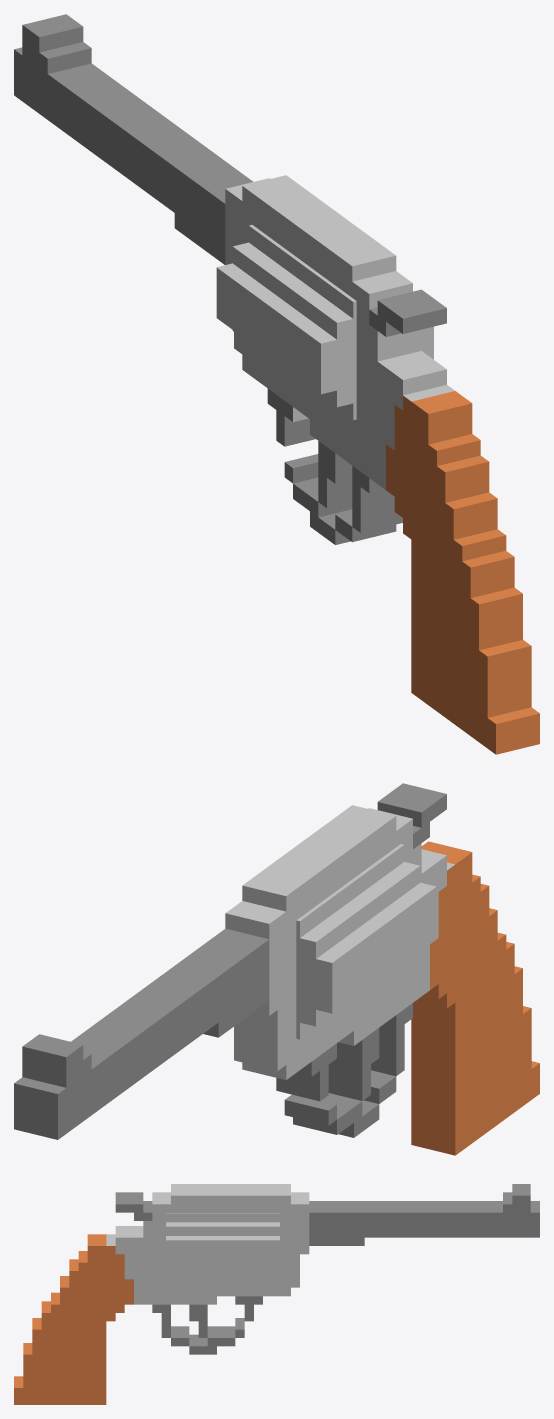
The model's file is revolver.fbx.
3 renders of one model, top to bottom at view 1: azimuth 30°, elevation 25°; view 2: azimuth 150°, elevation 25°; view 3: azimuth 270°, elevation 25°, orthographic. The views are drawn at different scales.
Parts seen in each view (by area): view 1: BASEGUN, BARREL; view 2: BASEGUN, BARREL; view 3: BASEGUN, BARREL.
Part boxes in pixels (x1=…): BASEGUN: x1=14, y1=14, x2=539, y2=754; BARREL: x1=216, y1=224, x2=433, y2=420; BASEGUN: x1=14, y1=783, x2=539, y2=1155; BARREL: x1=296, y1=844, x2=436, y2=1039; BASEGUN: x1=14, y1=1184, x2=539, y2=1404; BARREL: x1=166, y1=1213, x2=279, y2=1277.
Bounding box in the file's own units: 74.67 × 242 × 551.
